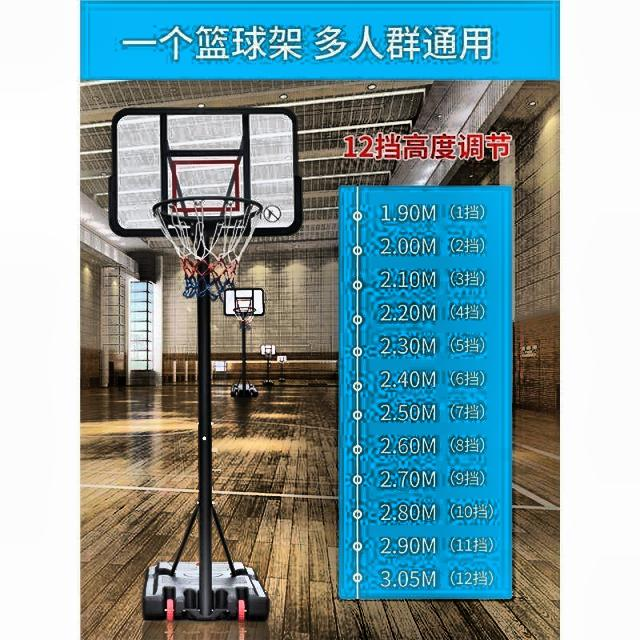rim: (152, 196, 263, 296)
